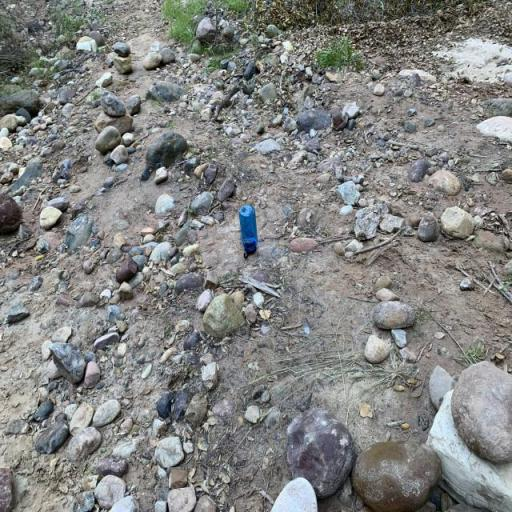bottle: (238, 205, 258, 259)
